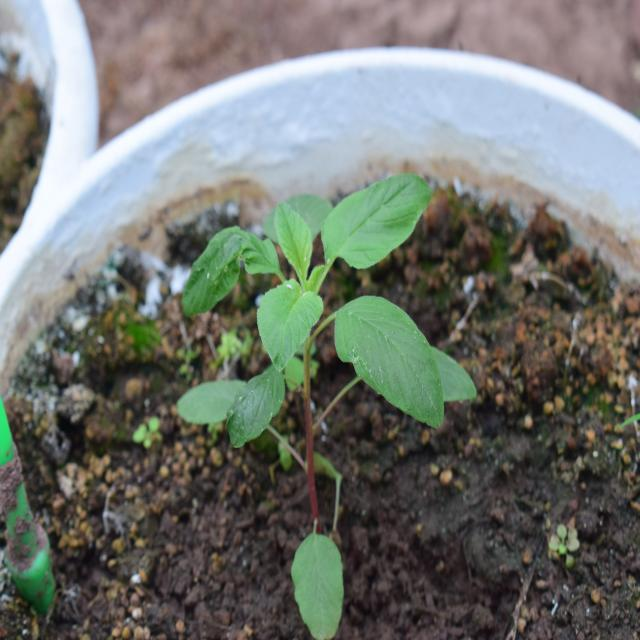pigweed: (155, 170, 476, 578)
